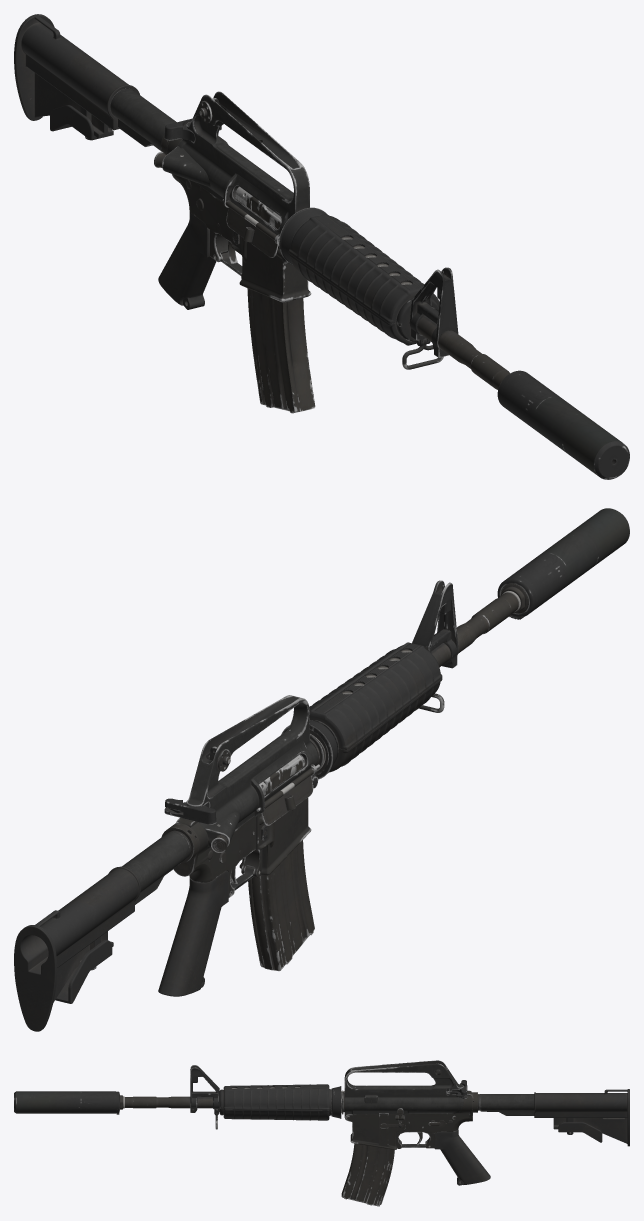
File: m4a1s_counter_strike_2.glb
3 views of the same model, one above another, from view 1: azimuth 30°, elevation 25°; view 2: azimuth 150°, elevation 25°; view 3: azimuth 270°, elevation 25° (orthographic). The views are drawn at different scales.
Parts seen in each view (by area): view 1: M4A1S_CS2; view 2: M4A1S_CS2; view 3: M4A1S_CS2.
Boxes of the visible parts, x1,y1,x2,y2 form: M4A1S_CS2: (14, 14, 629, 479); M4A1S_CS2: (14, 508, 629, 1031); M4A1S_CS2: (14, 1060, 629, 1206).
Size of the model in its own units: 0.0781 by 0.2994 by 1.18.
Materials: 1 (1 with a texture image).
